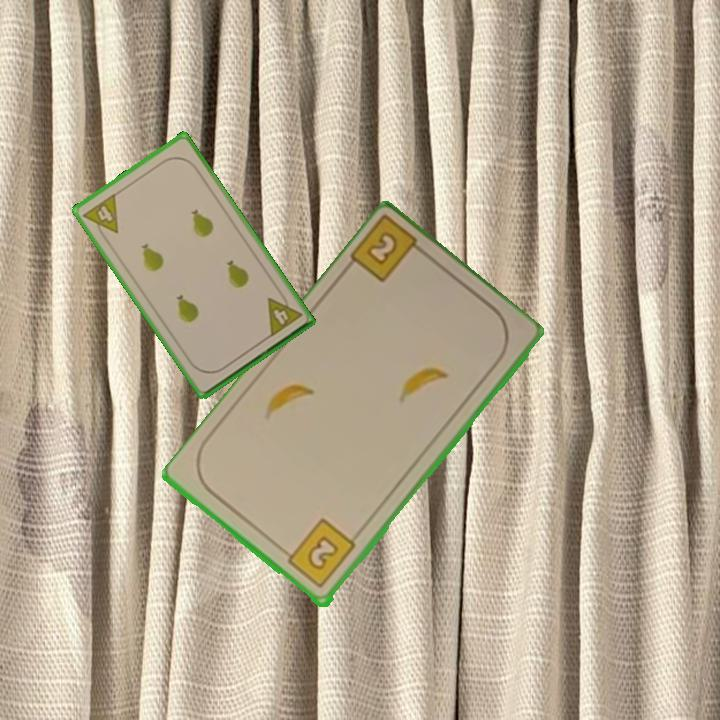2b: (278, 515, 359, 592), (346, 215, 432, 286)
4p: (262, 288, 305, 340), (79, 190, 121, 243)
